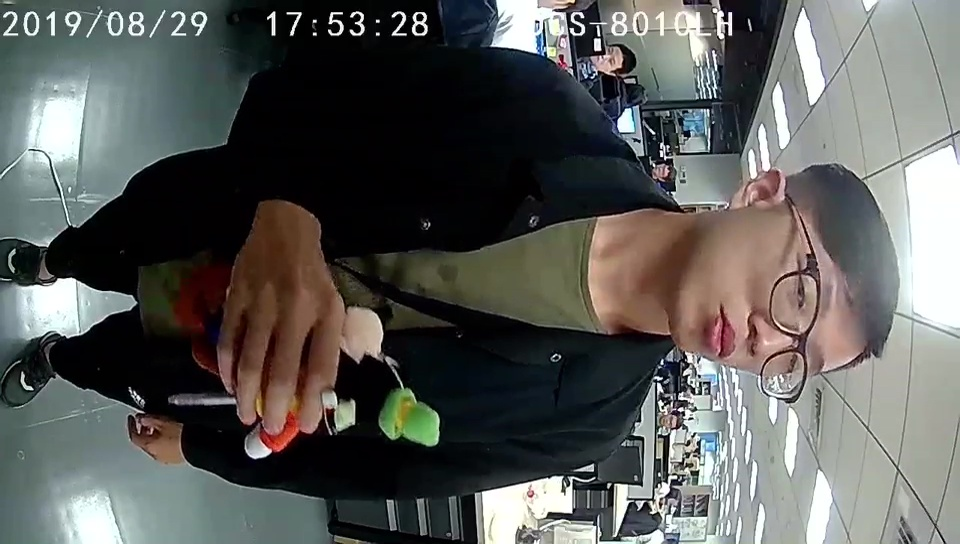goofy: (240, 300, 440, 461)
